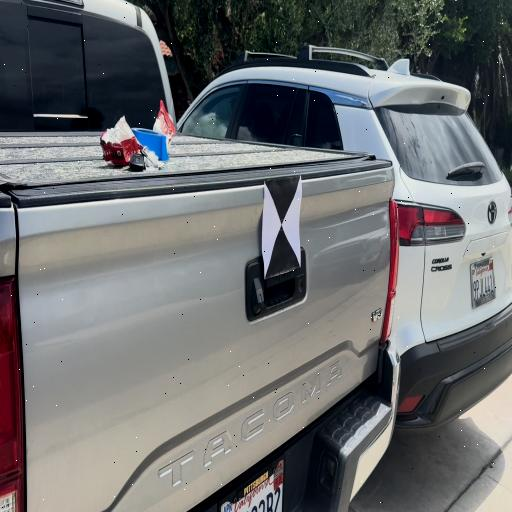target: (266, 181, 300, 267)
